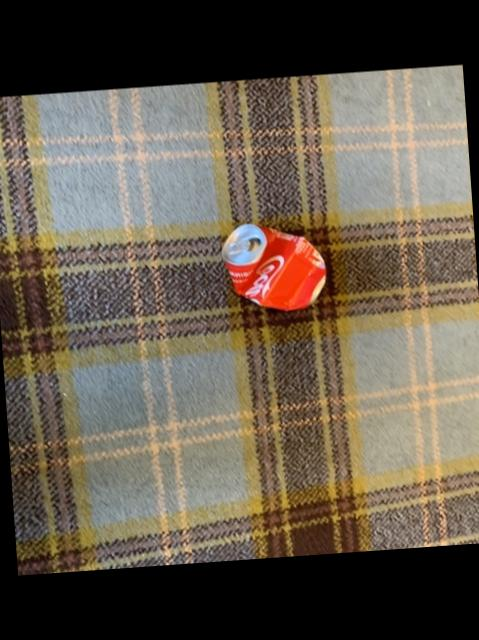metal: (218, 223, 322, 309)
